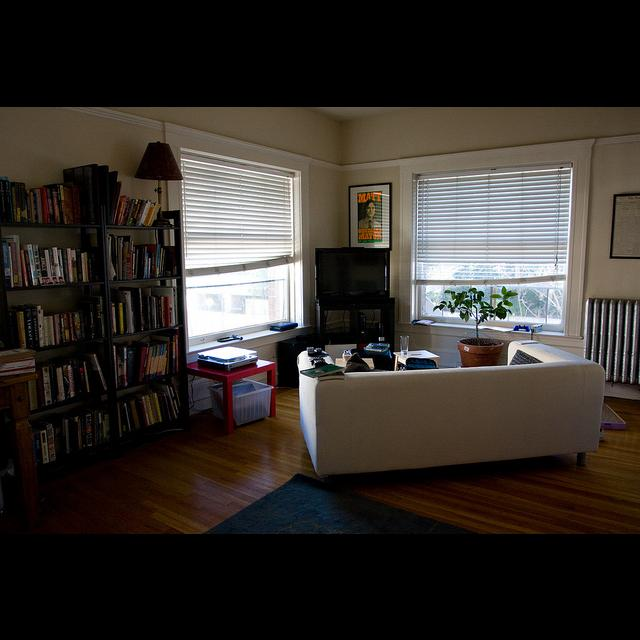Flat-Panel-TV: (315, 246, 391, 301)
